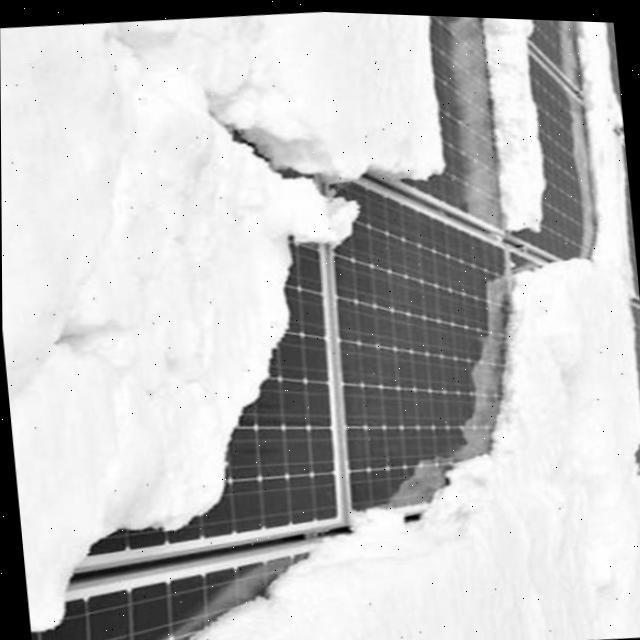Anomaly Solar Panel: (0, 9, 640, 640)
Snow: (85, 9, 640, 640), (0, 9, 491, 632), (477, 14, 557, 238)
